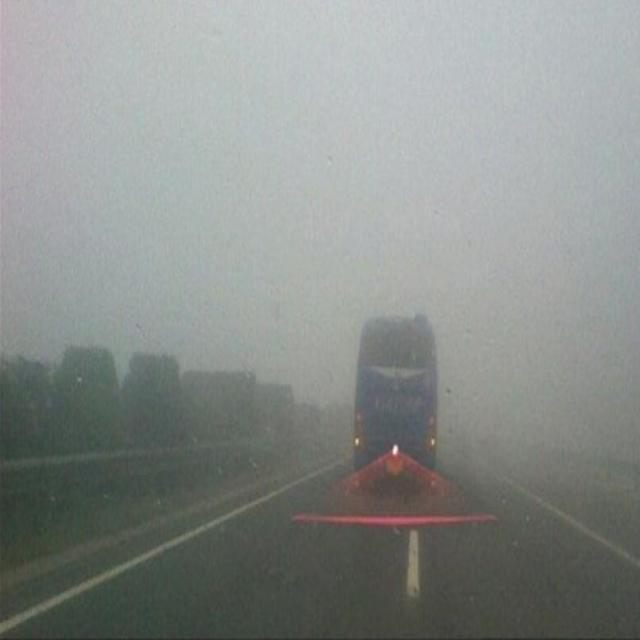Bus: (291, 278, 488, 554)
